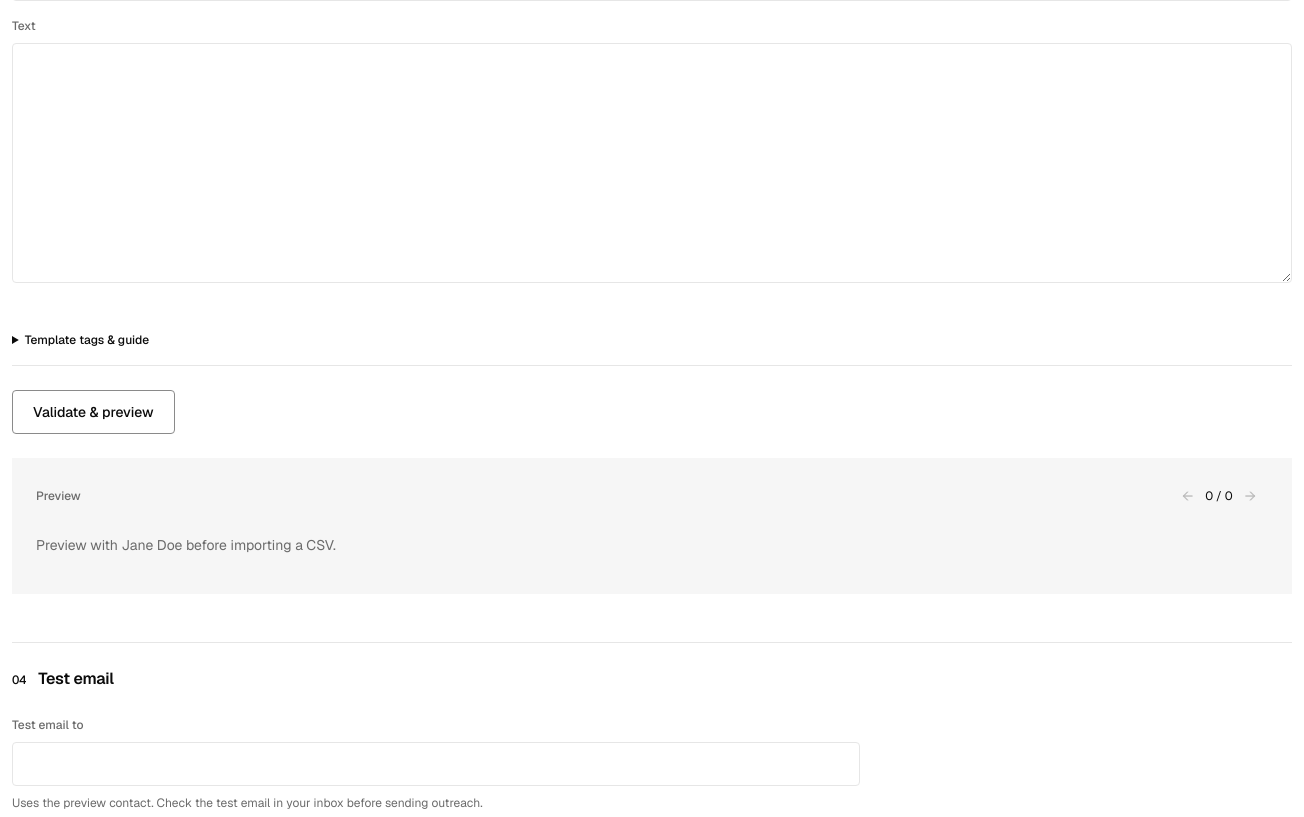
it: error reporting › shows native Error-wrapped preview failures with the original log receipt
(page scrolled)
Click the button "Validate & preview": coordinates (93, 412) [12, 390, 174, 434]
(page scrolled)
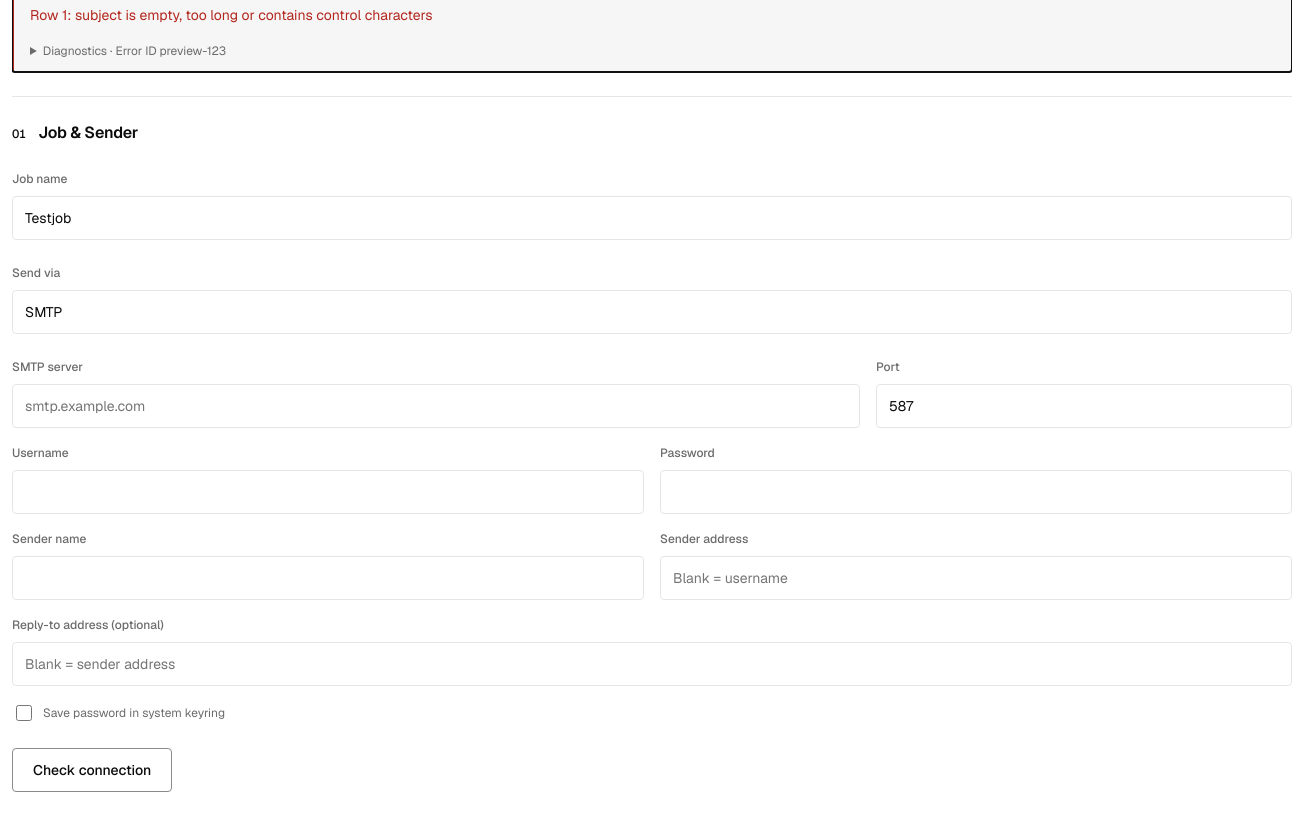
Expected: the message shows "subject is empty", [30, 6, 433, 24]
Expected: the message shows "preview-123", [43, 43, 226, 59]
